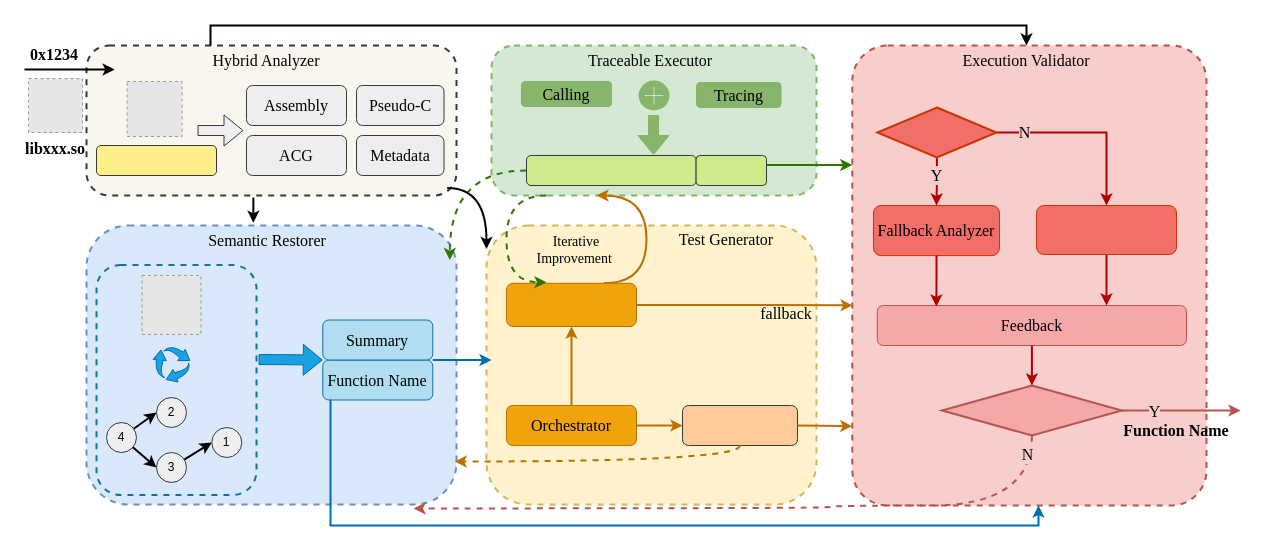
The diagram is 1267 pixels wide and 551 high, and some of its shapes have lost their labels. Grey dashed boxes stand in for pictures. Here are the shapes that lost their labels. From the top down, the centre of each, then its label:
point (936, 132): Crash?
point (156, 160): Simpleperf
point (611, 170): Args + Return
point (730, 170): Trace
point (1106, 229): Normal Analyzer
point (571, 304): Materializer
point (740, 425): Test Cases
point (1031, 410): consistent OR exhaust
